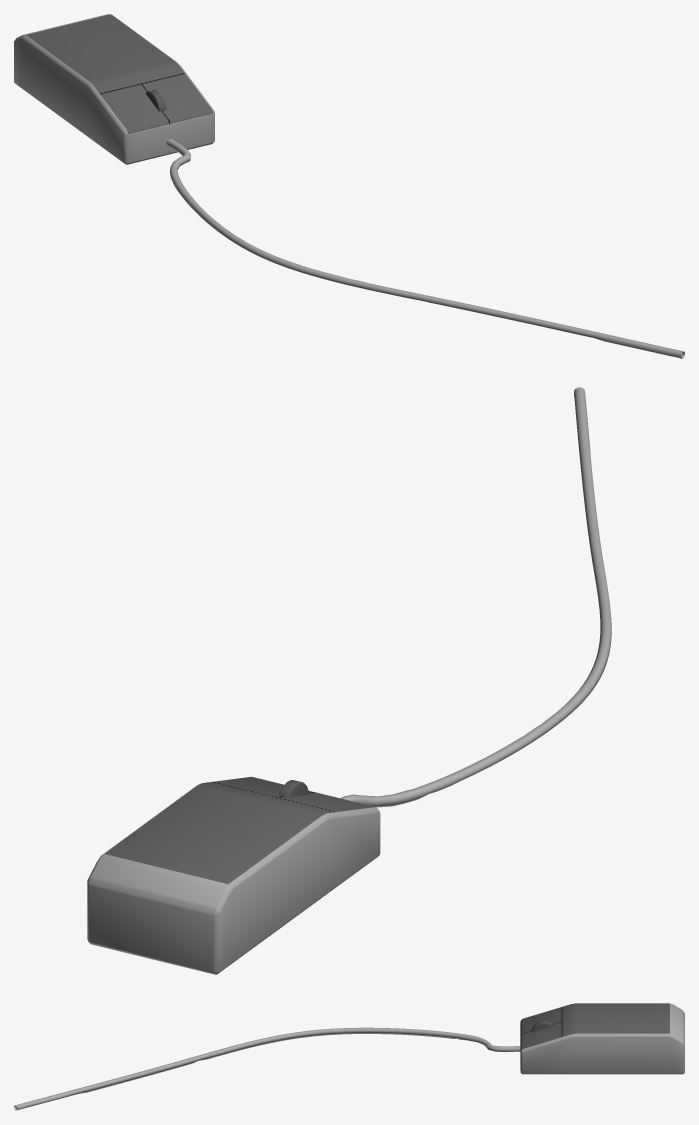
File: ComputerMouse.fbx
3 views of the same model, one above another, from view 1: azimuth 30°, elevation 25°; view 2: azimuth 150°, elevation 25°; view 3: azimuth 270°, elevation 25° (orthographic). The views are drawn at different scales.
Parts seen in each view (by area): view 1: pCube1, pCylinder2; view 2: pCube1, pCylinder2; view 3: pCube1, pCylinder2.
Part boxes in pixels (x1,y1,x2,y2): pCube1: (14,14,214,164); pCylinder2: (166,139,684,358); pCube1: (87,776,380,974); pCylinder2: (340,387,611,807); pCube1: (520,1003,684,1074); pCylinder2: (14,1027,520,1110).
Size of the model in its own units: 9.83 by 2.34 by 34.97.
Materials: 3 (1 with a texture image).
